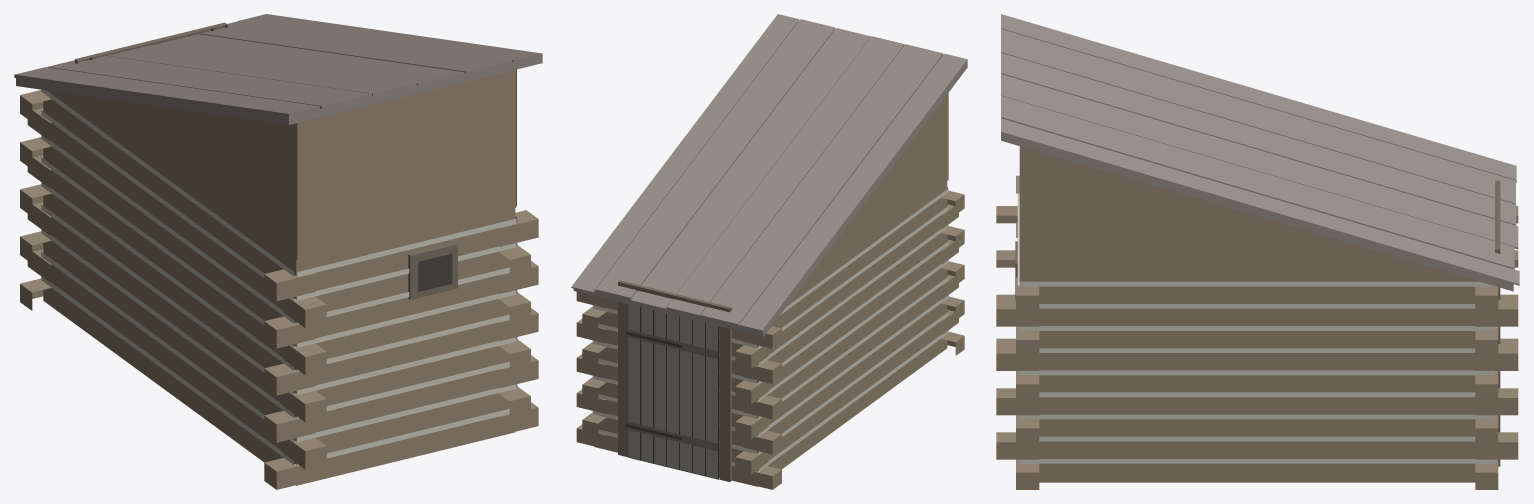
File: miller_tanyard_bark_shed__yard_1831.glb
The picture shows the model from 3 angles, left to right: view 1: azimuth 30°, elevation 25°; view 2: azimuth 150°, elevation 25°; view 3: azimuth 270°, elevation 25°; orthographic projection. The views are drawn at different scales.
Visible parts, largest first — view 1: miller_tanyard_bark_shed__yard_1831; view 2: miller_tanyard_bark_shed__yard_1831; view 3: miller_tanyard_bark_shed__yard_1831.
Boxes of the visible parts, <box> form: miller_tanyard_bark_shed__yard_1831: <box>14,14,542,489</box>; miller_tanyard_bark_shed__yard_1831: <box>571,14,967,489</box>; miller_tanyard_bark_shed__yard_1831: <box>996,14,1519,489</box>.
Size of the model in its own units: 2.92 by 4.08 by 5.37.
